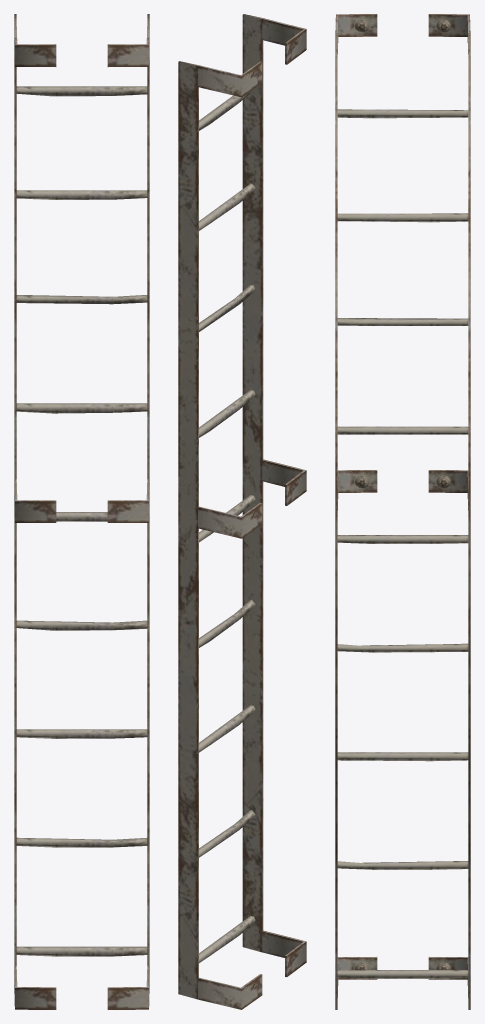
The model's file is ship_ladder_350.glb.
3 renders of one model, left to right at view 1: azimuth 90°, elevation 25°; view 2: azimuth 150°, elevation 25°; view 3: azimuth 270°, elevation 25°, orthographic. The views are drawn at different scales.
Visible parts, largest first — view 1: ship_ladder_350; view 2: ship_ladder_350; view 3: ship_ladder_350.
Part boxes in pixels (<box>): ship_ladder_350: <box>14,14,149,1009</box>; ship_ladder_350: <box>178,14,306,1009</box>; ship_ladder_350: <box>335,14,470,1009</box>.
Size of the model in its own units: 0.275 by 3.85 by 0.49.
Materials: 1 (1 with a texture image).
